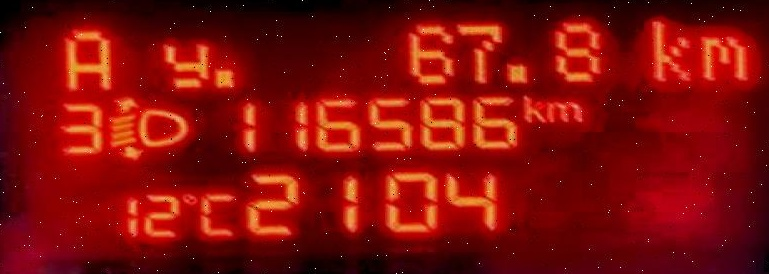-: (501, 60, 528, 84), (212, 63, 236, 89)
0: (378, 168, 440, 237)
1: (324, 168, 368, 234), (224, 97, 269, 156), (273, 96, 310, 152), (111, 188, 141, 238)
2: (239, 168, 304, 239), (141, 189, 178, 239)
3: (54, 96, 101, 159)
4: (440, 168, 505, 233)
5: (363, 92, 413, 151)
6: (401, 18, 455, 87), (311, 89, 361, 154), (468, 92, 518, 152)
7: (455, 19, 500, 85)
8: (545, 14, 608, 84), (413, 92, 466, 153)
X: (50, 23, 114, 92), (642, 14, 694, 83), (152, 38, 209, 92), (694, 29, 749, 83), (197, 189, 236, 238), (545, 95, 580, 124), (520, 89, 543, 125)
